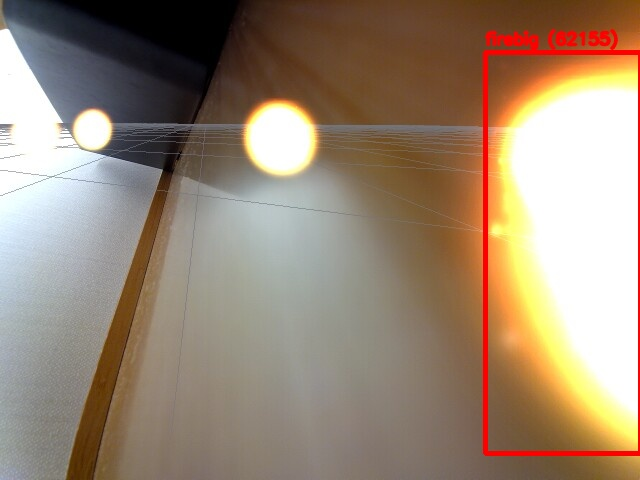firebig: (485, 52, 640, 453)
